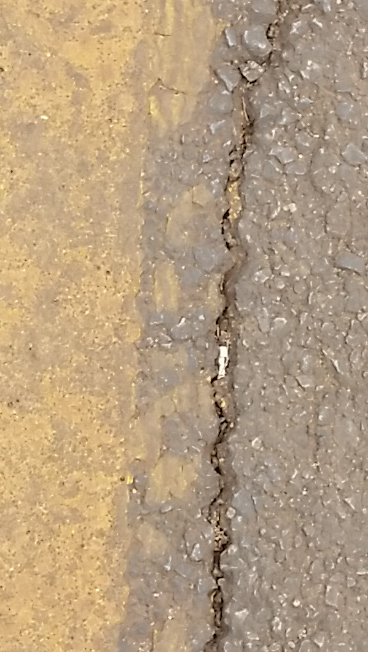A: (178, 3, 318, 642)
